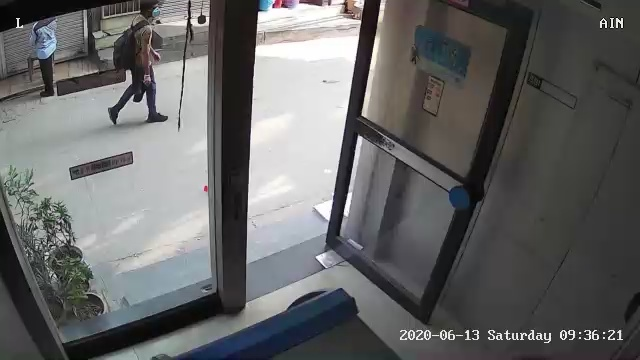open: (189, 6, 556, 333)
